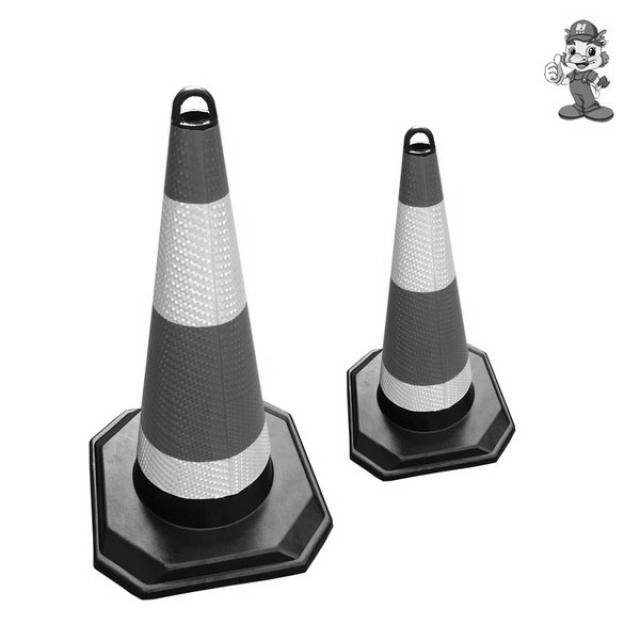reflective_cone: (87, 86, 333, 596), (346, 125, 514, 483)
